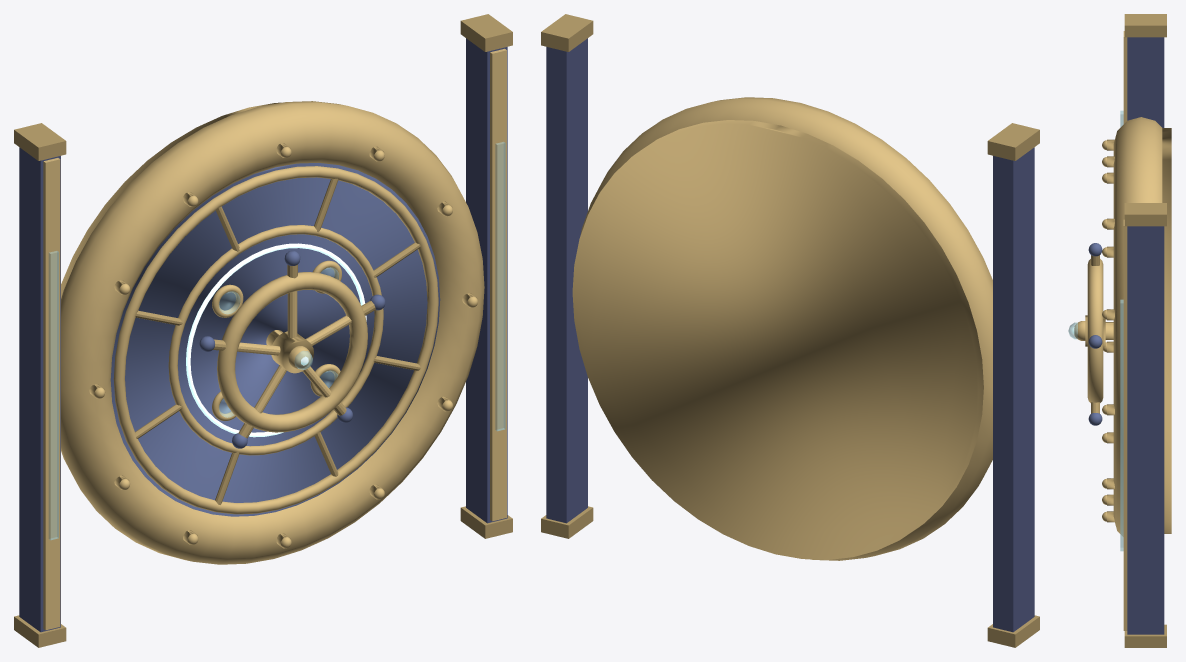
The model's file is a-monumental-circular-observatory-vault-door.glb.
3 views of the same model, side by side, from view 1: azimuth 30°, elevation 25°; view 2: azimuth 150°, elevation 25°; view 3: azimuth 270°, elevation 25° (orthographic). The views are drawn at different scales.
Parts seen in each view (by area): view 1: VaultFrame, door_panel, lock_wheel, teal_insets; view 2: VaultFrame; view 3: VaultFrame, lock_wheel, teal_insets.
Part boxes in pixels (x1=…): VaultFrame: x1=14, y1=14, x2=512, y2=647; door_panel: x1=110, y1=163, x2=440, y2=516; lock_wheel: x1=199, y1=250, x2=385, y2=448; teal_insets: x1=48, y1=142, x2=505, y2=540; VaultFrame: x1=541, y1=14, x2=1039, y2=647; VaultFrame: x1=1102, y1=14, x2=1171, y2=647; lock_wheel: x1=1074, y1=243, x2=1105, y2=425; teal_insets: x1=1068, y1=110, x2=1123, y2=551.
Size of the model in its own units: 1.98 by 2 by 0.4324.
